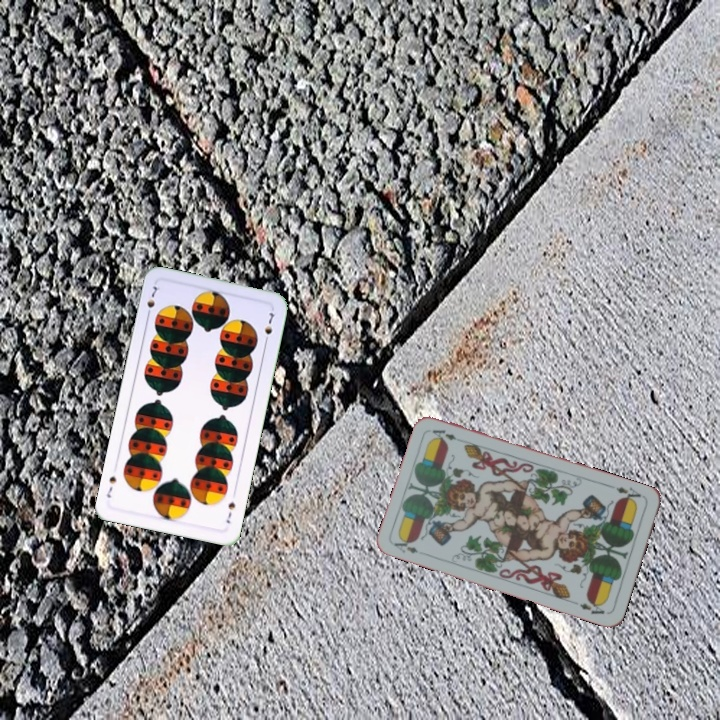EA: (612, 483, 647, 505), (390, 534, 421, 556)
S7: (143, 282, 162, 320), (222, 498, 238, 526)
